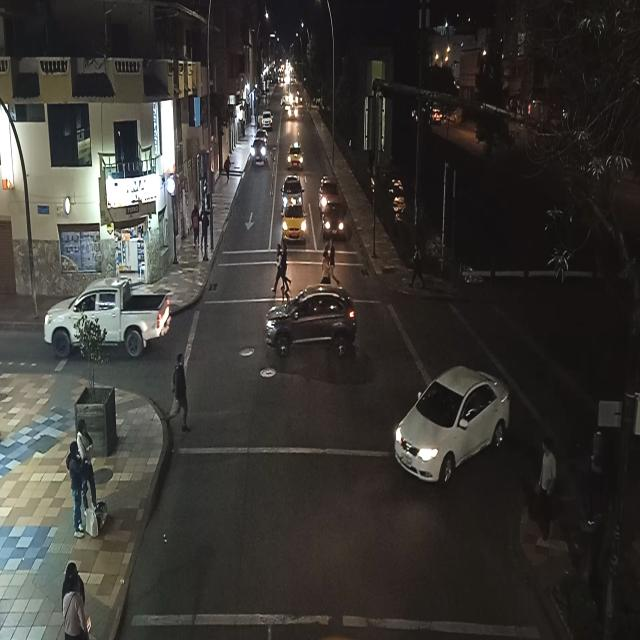CMT: (47, 280, 172, 351)
SED: (395, 372, 506, 479), (282, 208, 304, 242), (288, 146, 302, 170)
SUV: (264, 290, 354, 350), (282, 175, 302, 203), (252, 140, 266, 162), (264, 111, 274, 127)
